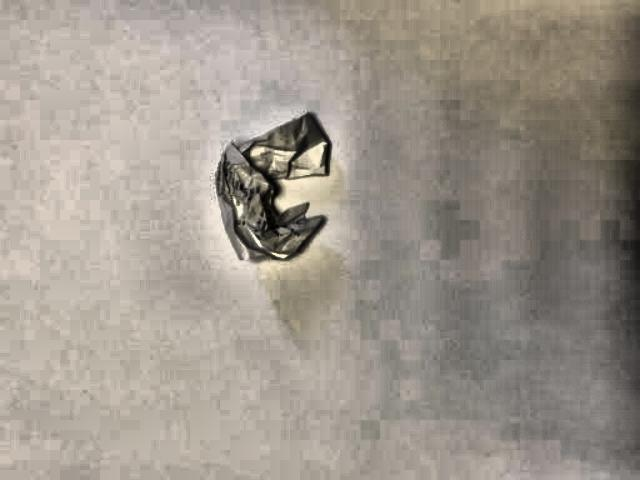Paper: (217, 110, 340, 259)
